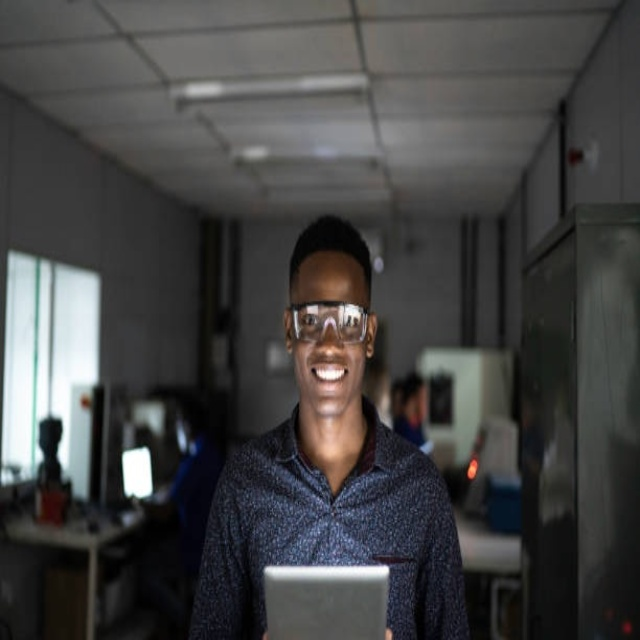Gafas: (287, 301, 371, 344)
Sin_mascara: (308, 358, 350, 413)
